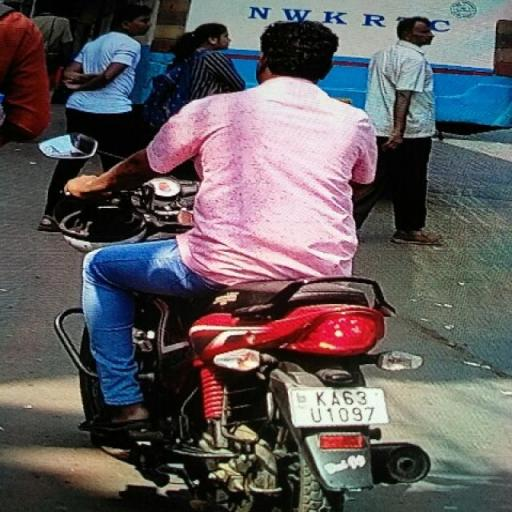bike: (40, 17, 453, 512)
numberplate: (291, 384, 390, 425)
withouthelmet: (263, 23, 335, 80)
